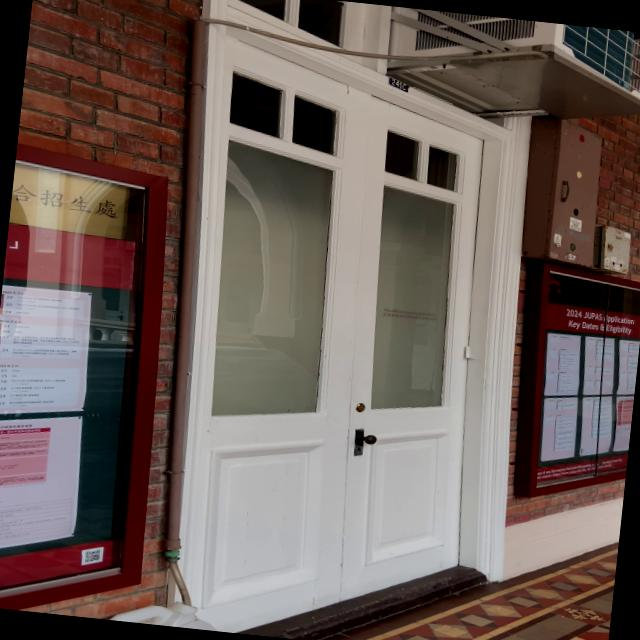room241c: (384, 73, 413, 94)
